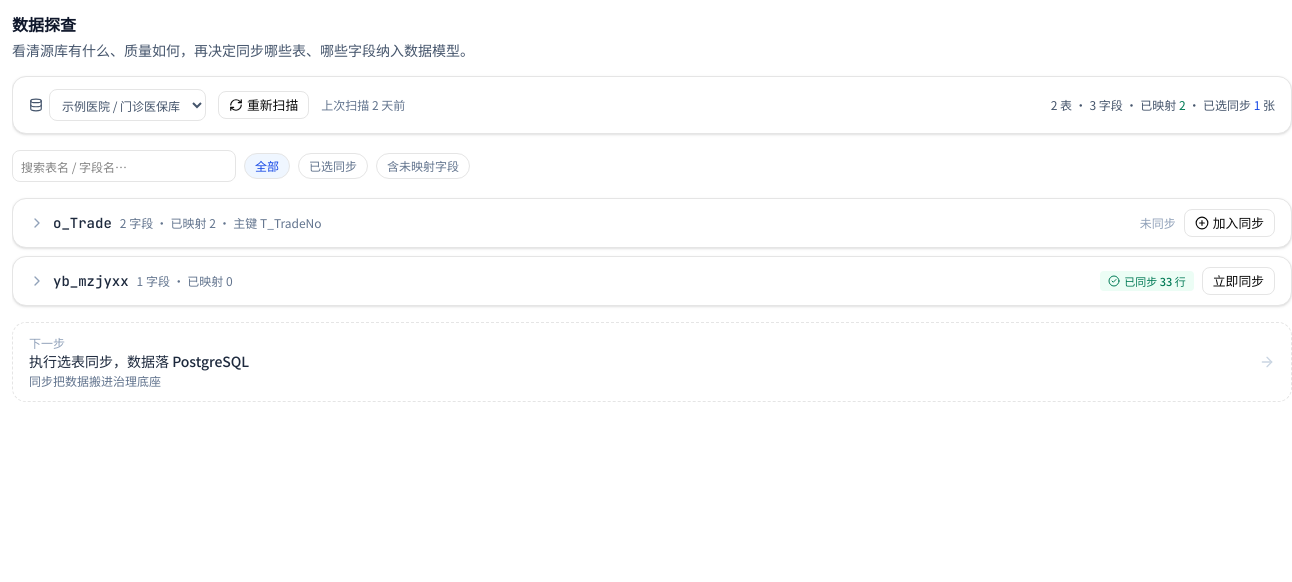
Test: 数据探查页（自包含版） › 已映射字段不显示纳入建模，未映射字段提供治理内跳转
Check: the element with test id "table-o_Trade" is shown, box [12,198,1291,248]
Click the text "o_Trade" at (82, 223), box [53,213,112,233]
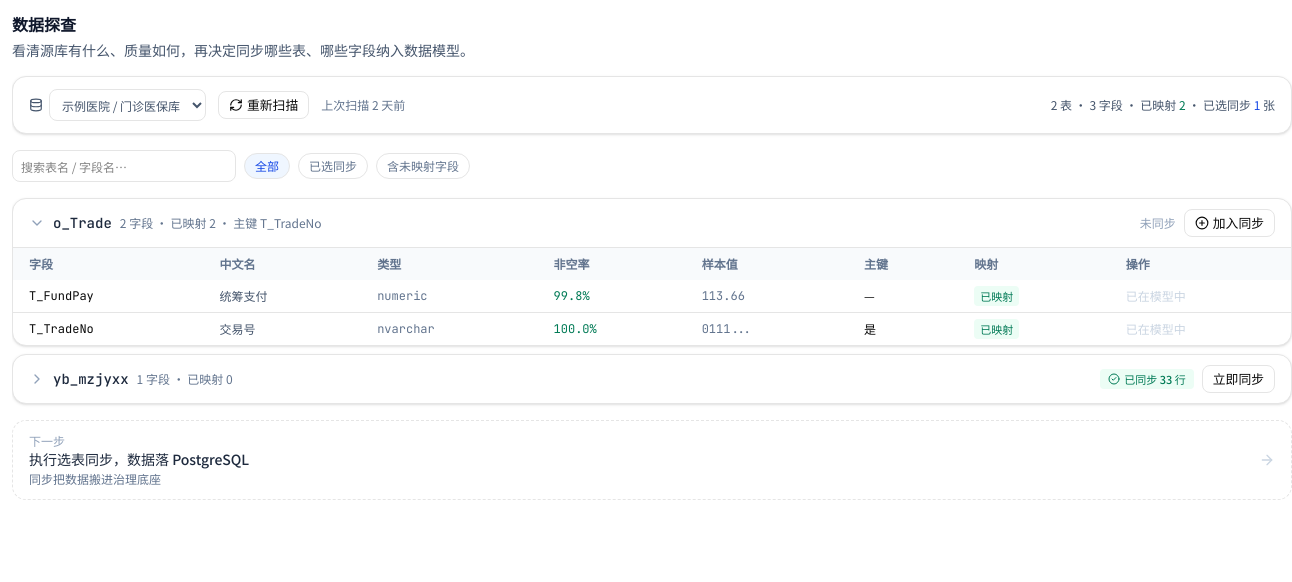
Check: the table with test id "fields-o_Trade" shows "已在模型中", box [1126,287,1186,304]
// yb_mzjyxx.zje 未映射：显示纳入建模链接
Click the text "yb_mzjyxx" at (91, 379), box [53,369,129,389]
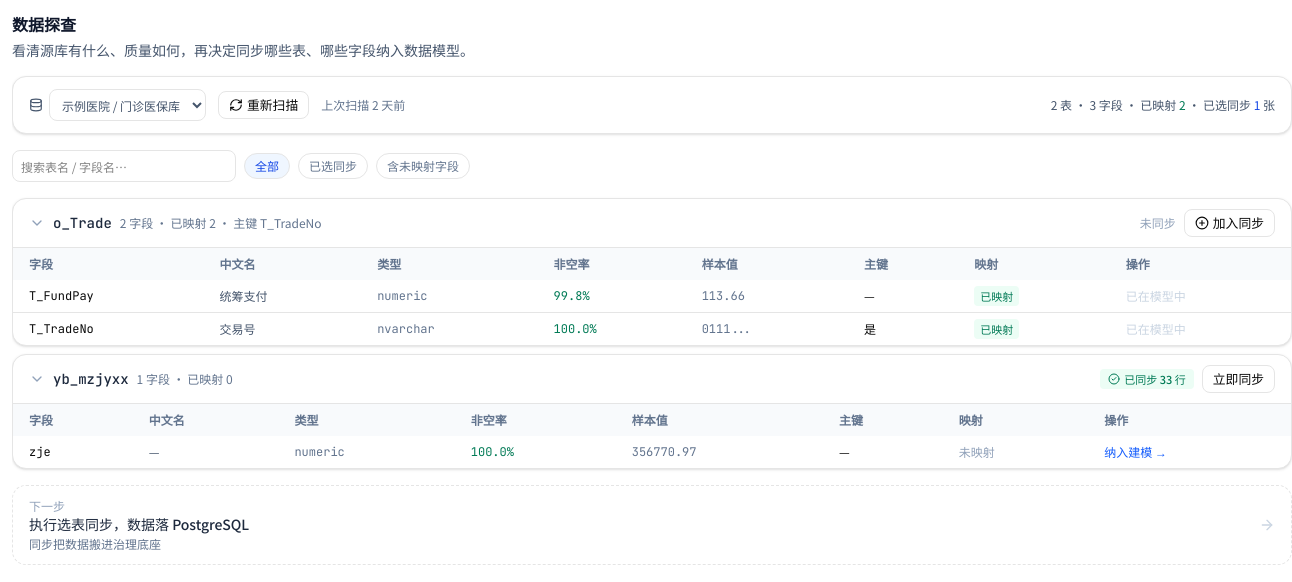
Check: the table with test id "fields-yb_mzjyxx" is shown, box [13,404,1291,468]
